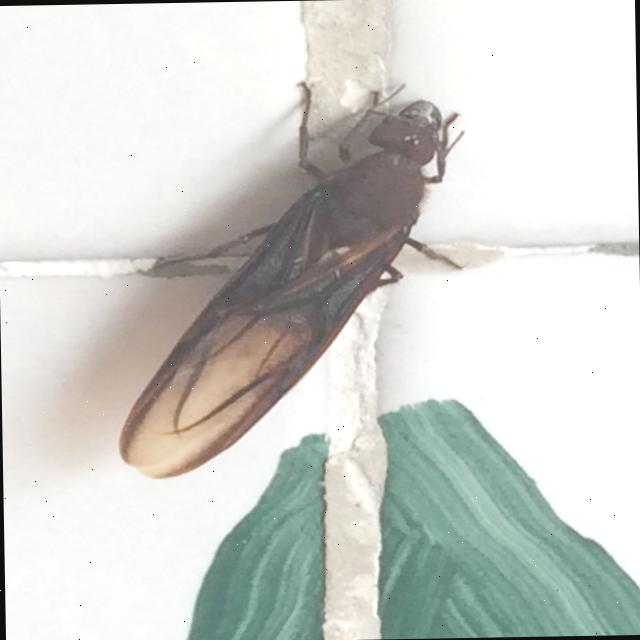Alive-Female-Alate: (107, 78, 475, 479)
